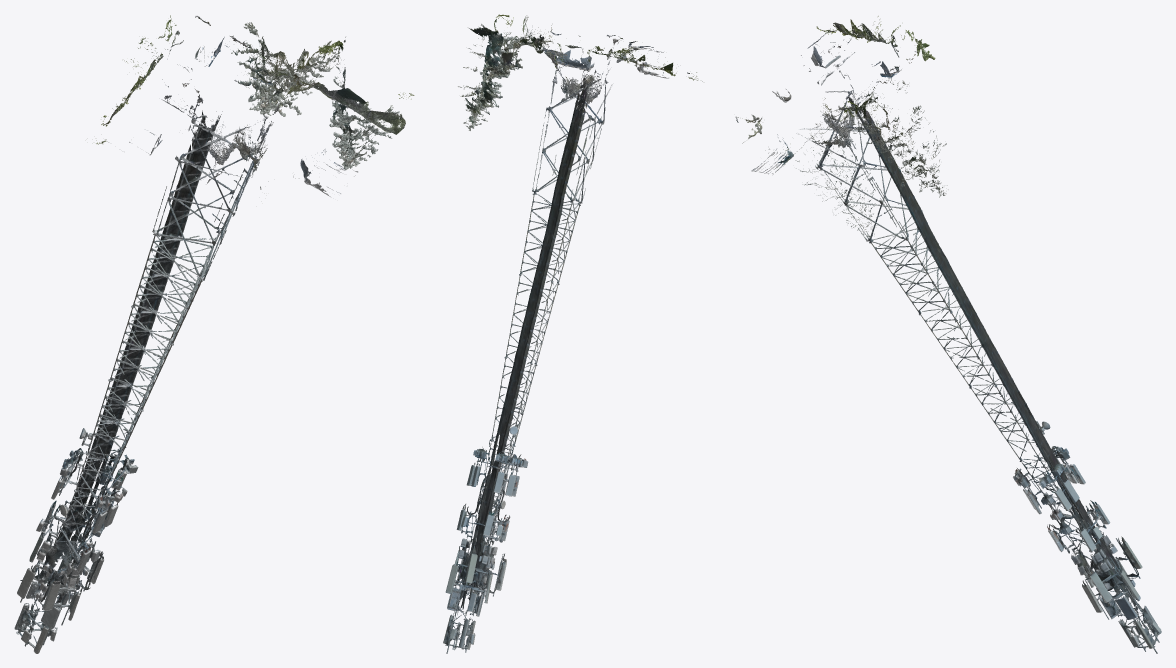
File: output_simplified.glb
3 views of the same model, side by side, from view 1: azimuth 30°, elevation 25°; view 2: azimuth 150°, elevation 25°; view 3: azimuth 270°, elevation 25° (orthographic). The views are drawn at different scales.
Parts seen in each view (by area): view 1: mesh_simplified.ply; view 2: mesh_simplified.ply; view 3: mesh_simplified.ply.
Boxes of the visible parts, left/top/right/bottom form: mesh_simplified.ply: left=14, top=15, right=414, bottom=653; mesh_simplified.ply: left=443, top=14, right=702, bottom=653; mesh_simplified.ply: left=735, top=16, right=1161, bottom=653.
Size of the model in its own units: 5.57 by 12.65 by 7.98.
